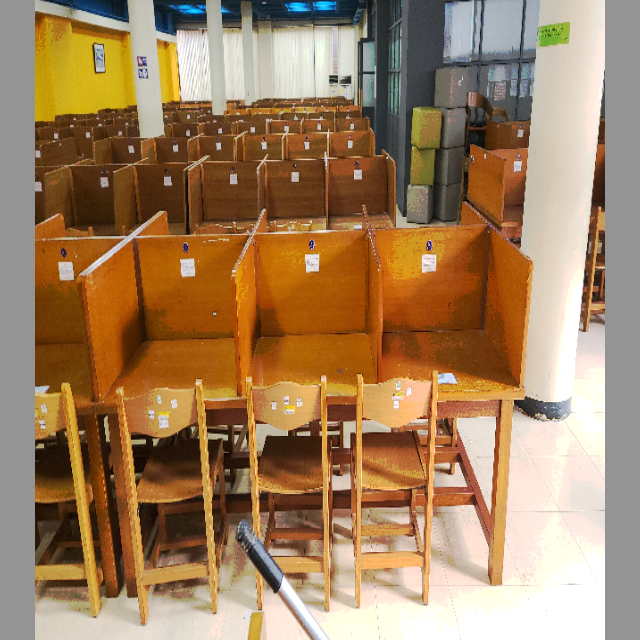empty: (384, 219, 521, 482), (87, 246, 236, 456), (242, 235, 378, 457)
